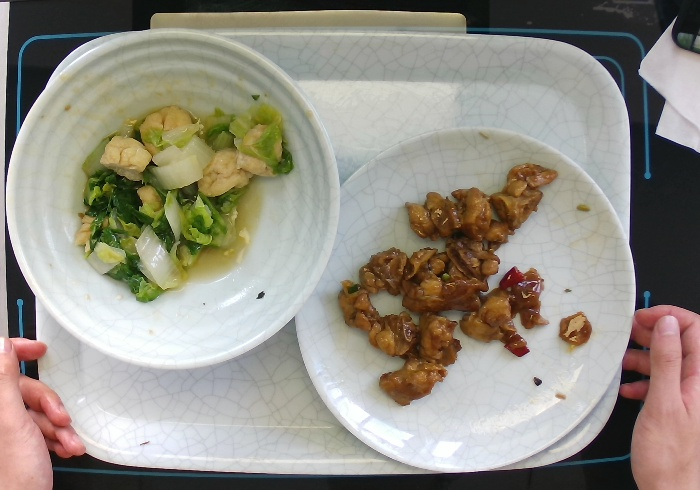JYsf-Da_Tang_Wan: (1, 23, 346, 374)
JYsf-Da_Yuan_Pan: (291, 122, 640, 477)
